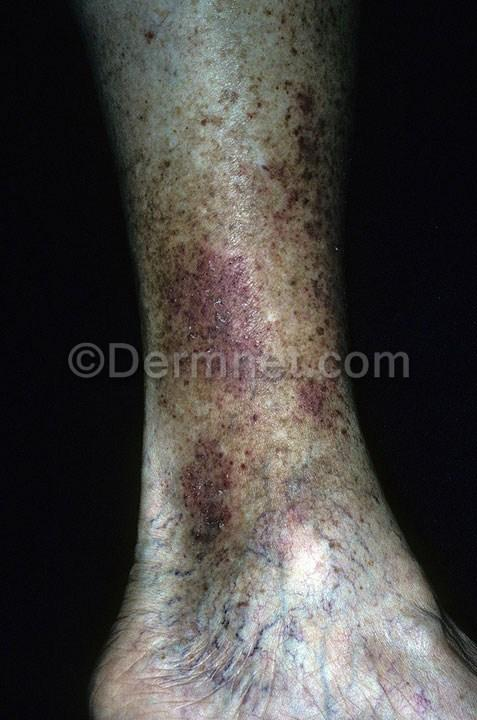Eczema: (146, 225, 294, 351), (259, 60, 345, 245), (158, 422, 269, 551), (278, 378, 354, 433)
